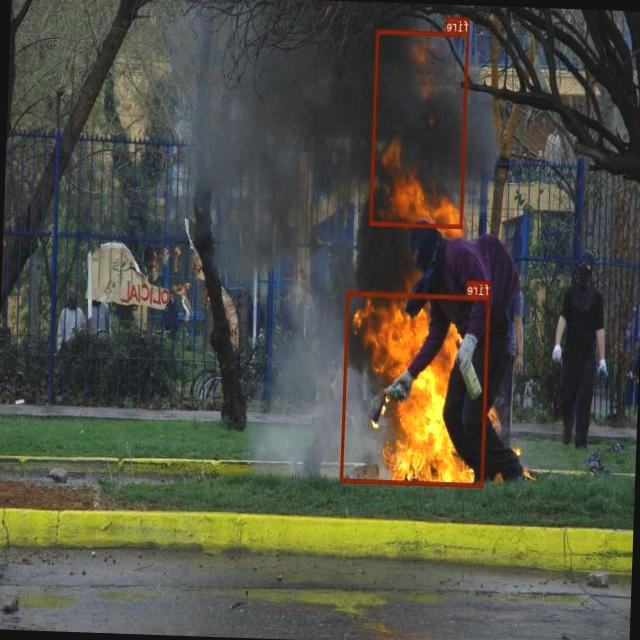fire: (340, 290, 490, 487), (369, 29, 469, 228)
